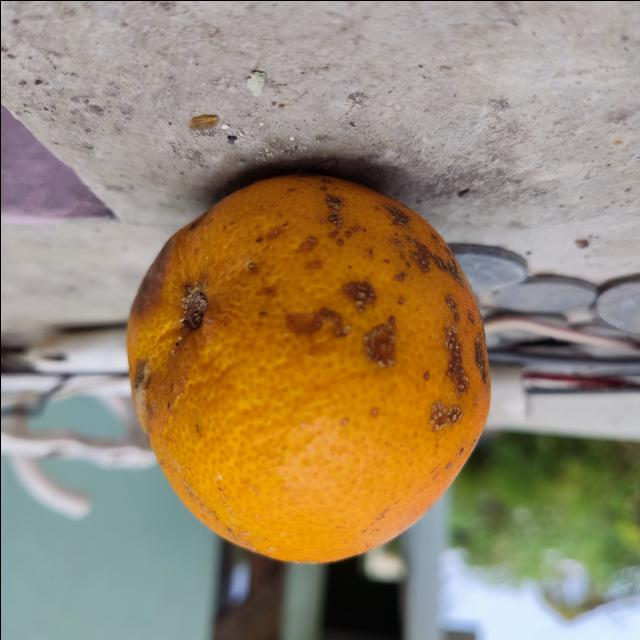orange: (123, 167, 490, 563)
